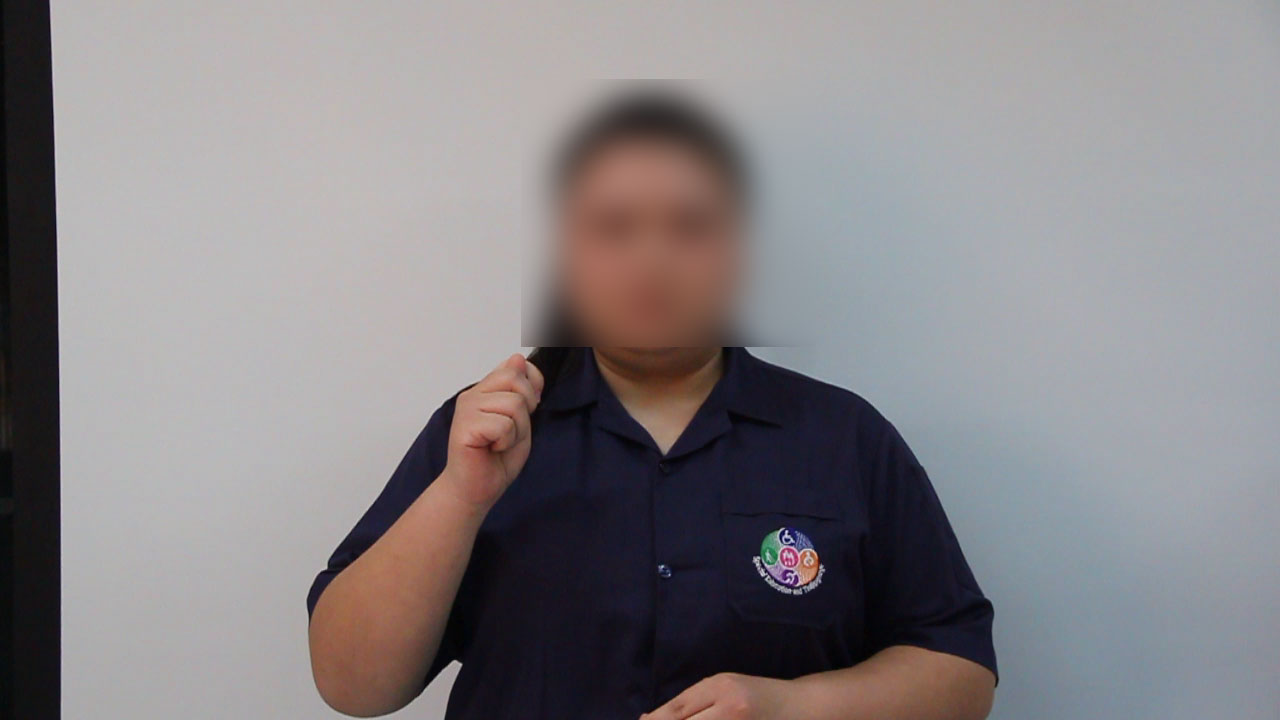tor: (421, 342, 569, 516)
